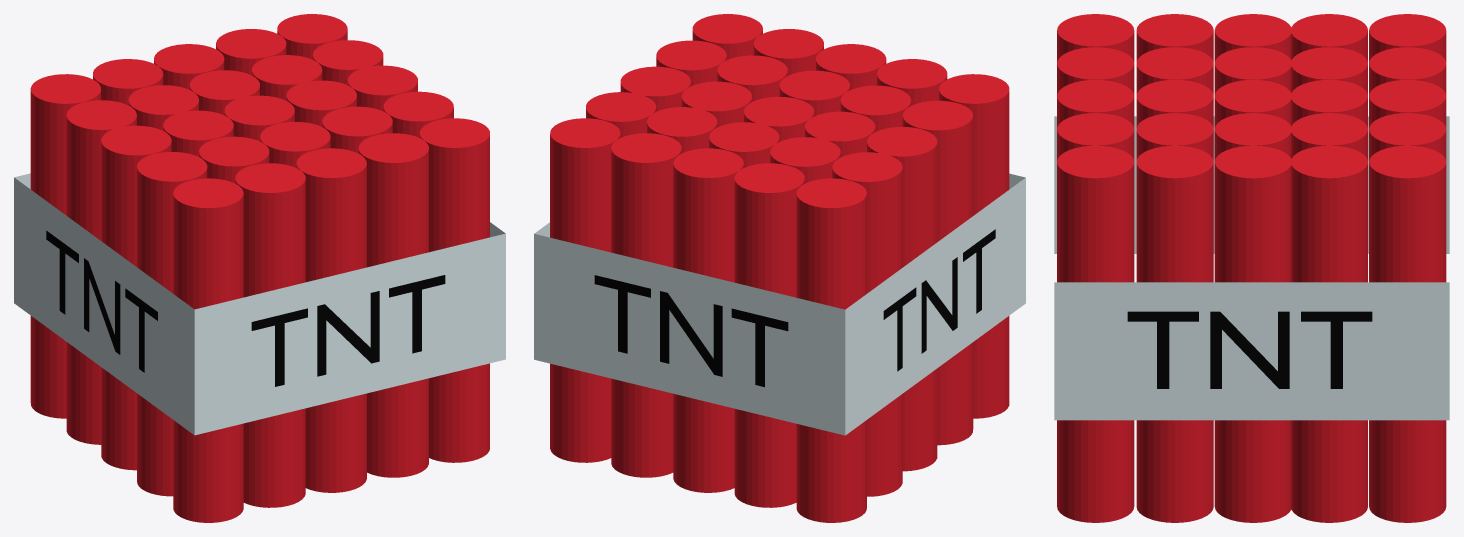
Rendered from tnt.fbx.
3 views of the same model, side by side, from view 1: azimuth 30°, elevation 25°; view 2: azimuth 150°, elevation 25°; view 3: azimuth 270°, elevation 25° (orthographic). The views are drawn at different scales.
Visible parts, largest first — view 1: Cylinder.024, Cube, Object, Object.003; view 2: Cylinder.024, Cube, Object.001, Object.003; view 3: Cylinder.024, Cube, Object.002.
Boxes of the visible parts, x1=… form: Cylinder.024: x1=30, y1=14, x2=489, y2=522; Cube: x1=14, y1=173, x2=505, y2=435; Object: x1=251, y1=275, x2=445, y2=386; Object.003: x1=46, y1=230, x2=157, y2=372; Cylinder.024: x1=550, y1=14, x2=1009, y2=522; Cube: x1=534, y1=173, x2=1025, y2=435; Object.001: x1=594, y1=275, x2=788, y2=387; Object.003: x1=883, y1=229, x2=995, y2=371; Cylinder.024: x1=1057, y1=14, x2=1446, y2=522; Cube: x1=1054, y1=116, x2=1449, y2=420; Object.002: x1=1127, y1=311, x2=1372, y2=388.
Size of the model in its own units: 527 by 504 by 525.
